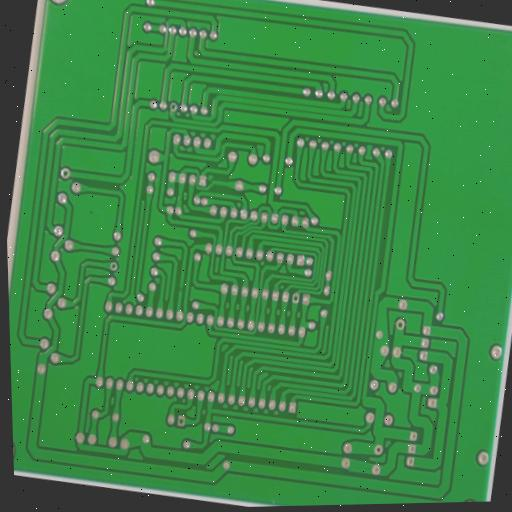missing_hole: (393, 316, 408, 332), (57, 164, 72, 180), (174, 412, 188, 428), (289, 291, 301, 306), (108, 259, 120, 273), (168, 100, 179, 112)
